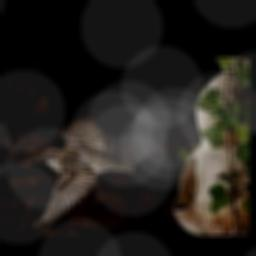Sparrow: (31, 116, 135, 228)
